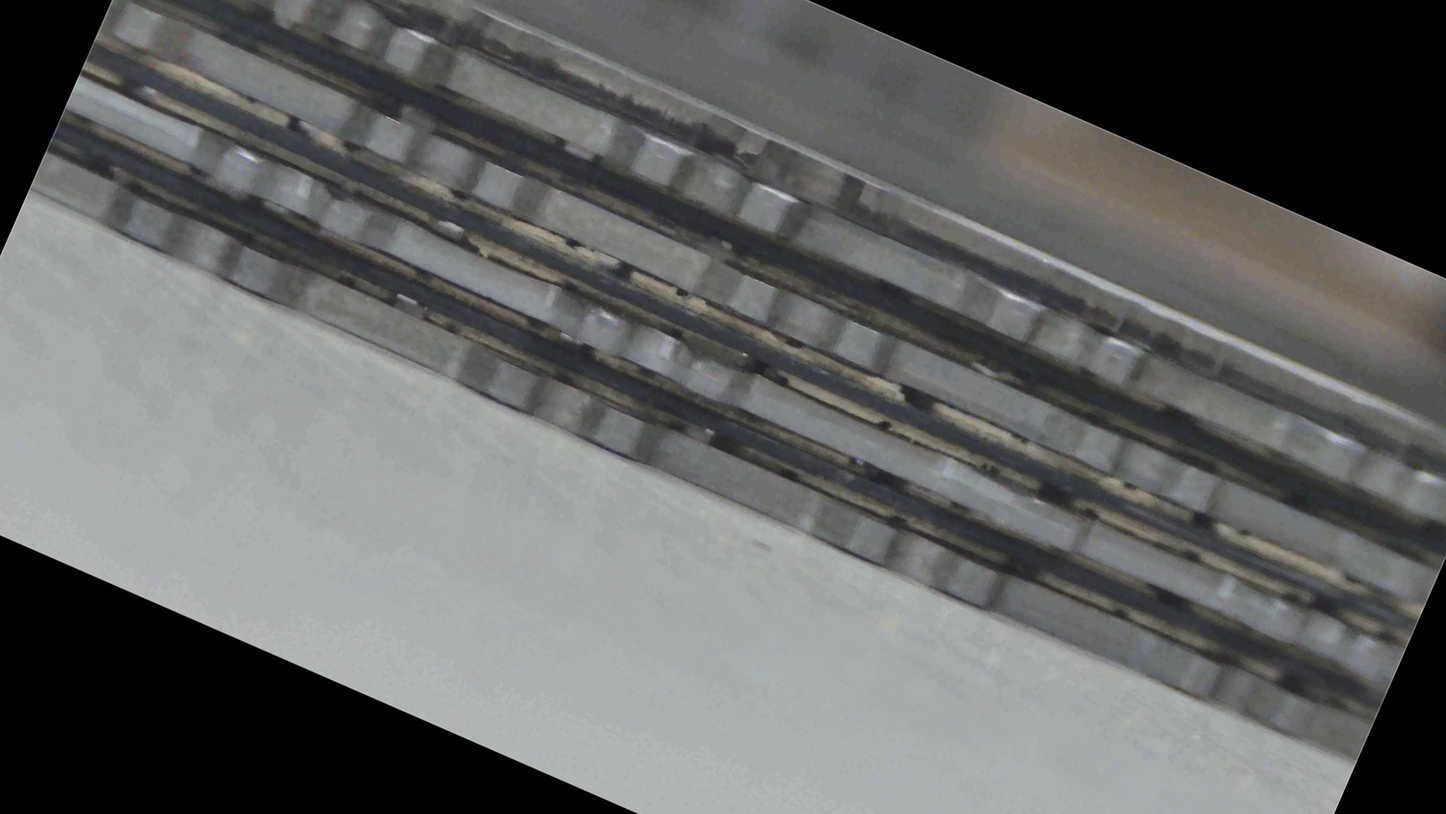Black metal plate: (34, 155, 1371, 759), (4, 135, 1443, 187)
shiney metal plate: (0, 151, 1436, 262), (0, 357, 1445, 408), (4, 495, 1445, 544)
spacer: (6, 289, 1404, 665), (0, 376, 1445, 409), (0, 554, 1445, 581)
